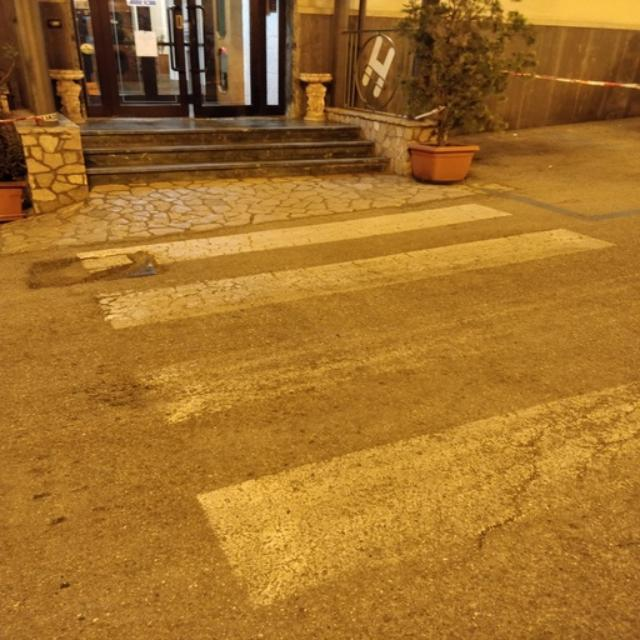sidewalk: (72, 198, 639, 621)
